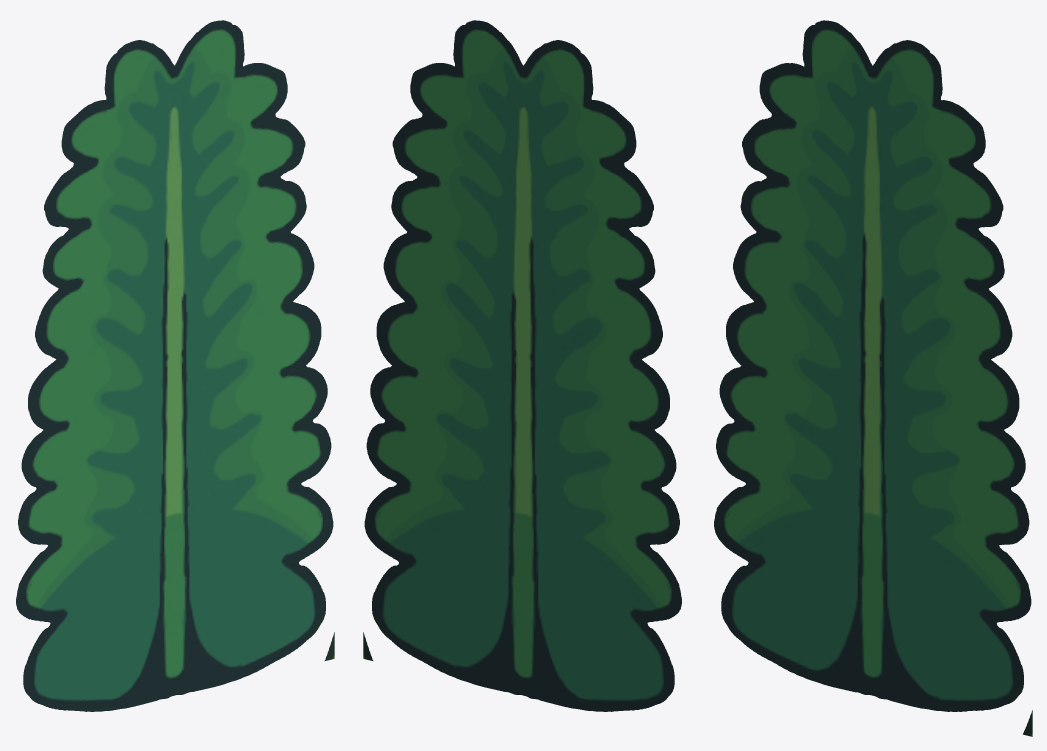
The model's file is HojaB.fbx.
3 renders of one model, left to right at view 1: azimuth 30°, elevation 25°; view 2: azimuth 150°, elevation 25°; view 3: azimuth 330°, elevation 25°, orthographic.
Visible parts, largest first — view 1: HojaB; view 2: HojaB; view 3: HojaB.
Part boxes in pixels (x1,y1,x2,y2): HojaB: (16, 20, 334, 711); HojaB: (363, 20, 681, 711); HojaB: (714, 20, 1032, 736).
Bounding box in the file's own units: 0.5523 × 1.1 × 4.81e-08.
